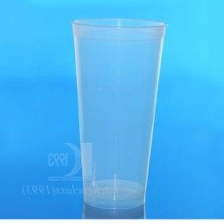glass: (60, 12, 170, 215)
